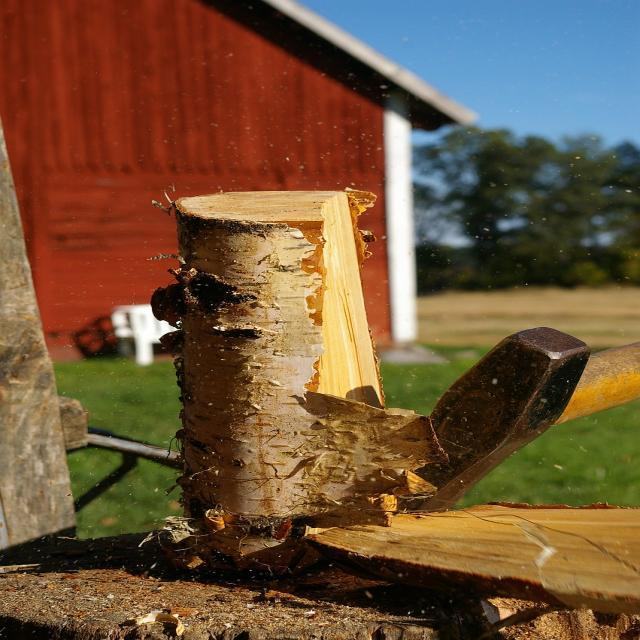Axe: (418, 328, 640, 511)
